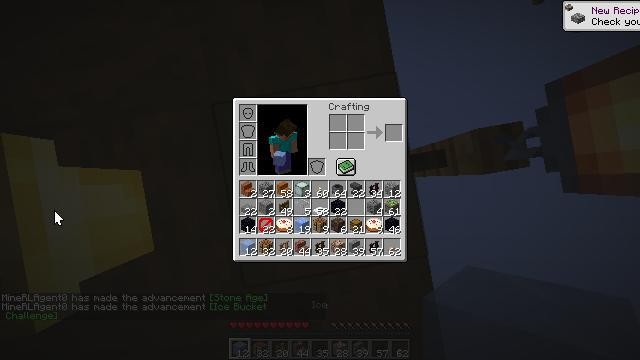cursor: (54, 210, 64, 226)
